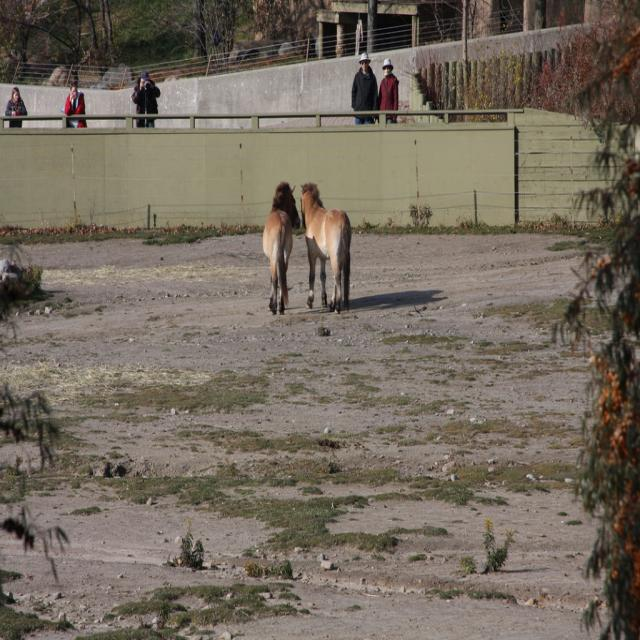Horse: (300, 184, 352, 310), (263, 182, 300, 316)
